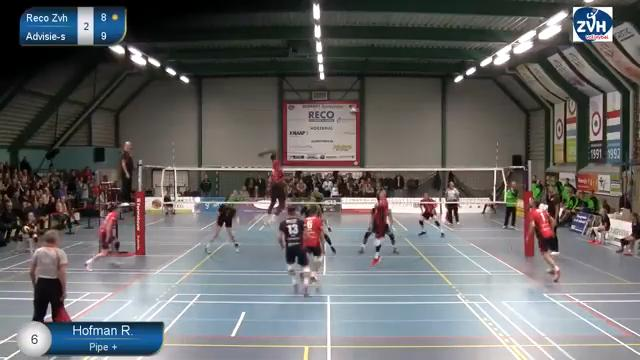Attack: (251, 141, 291, 232)
Player: (359, 191, 398, 265), (279, 206, 310, 296), (527, 199, 559, 281), (85, 203, 119, 270), (205, 204, 238, 253), (303, 209, 324, 282), (301, 188, 330, 231), (418, 193, 443, 236)
Set: (361, 185, 391, 269)
